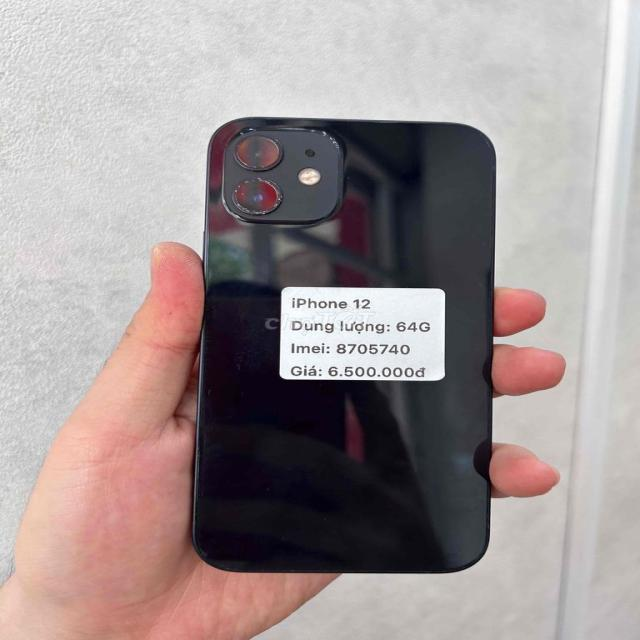scratch: (213, 122, 360, 236)
